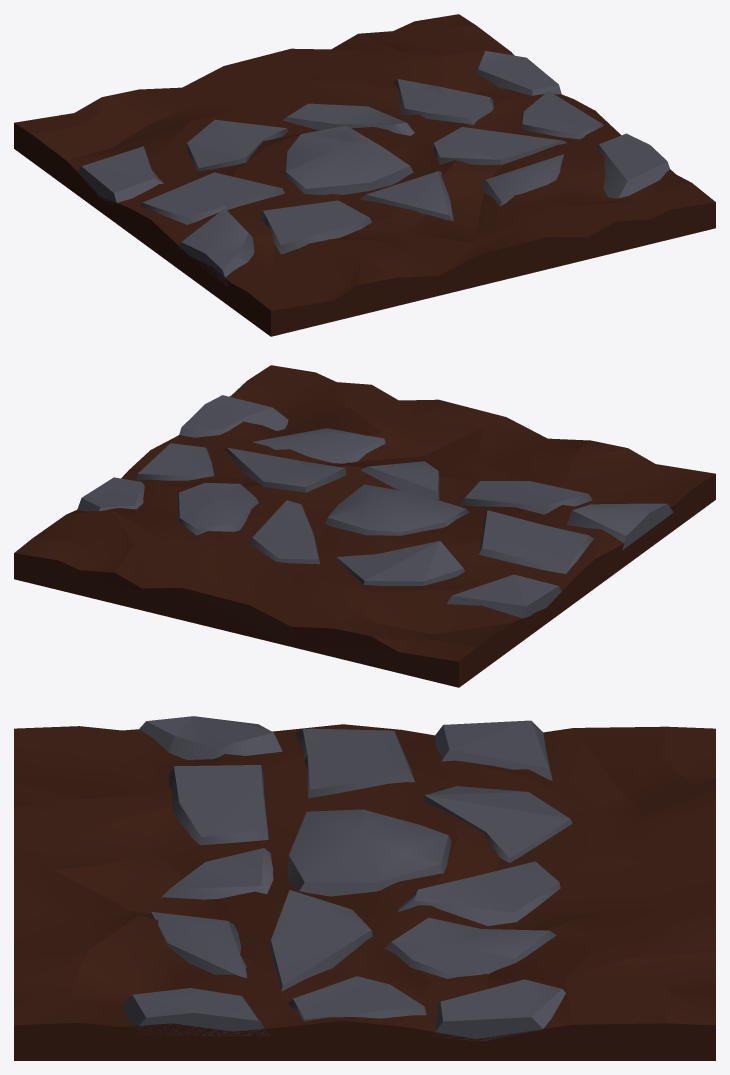
Rendered from Ground_Stone_Path_H.fbx.
3 views of the same model, one above another, from view 1: azimuth 30°, elevation 25°; view 2: azimuth 150°, elevation 25°; view 3: azimuth 270°, elevation 25° (orthographic). The views are drawn at different scales.
Parts seen in each view (by area): view 1: Ground_Stone_Path_H; view 2: Ground_Stone_Path_H; view 3: Ground_Stone_Path_H.
Boxes of the visible parts, x1,y1,x2,y2 form: Ground_Stone_Path_H: (14, 14, 715, 336); Ground_Stone_Path_H: (14, 365, 715, 687); Ground_Stone_Path_H: (14, 716, 715, 1060).
Size of the model in its own units: 147 by 14.98 by 147.
